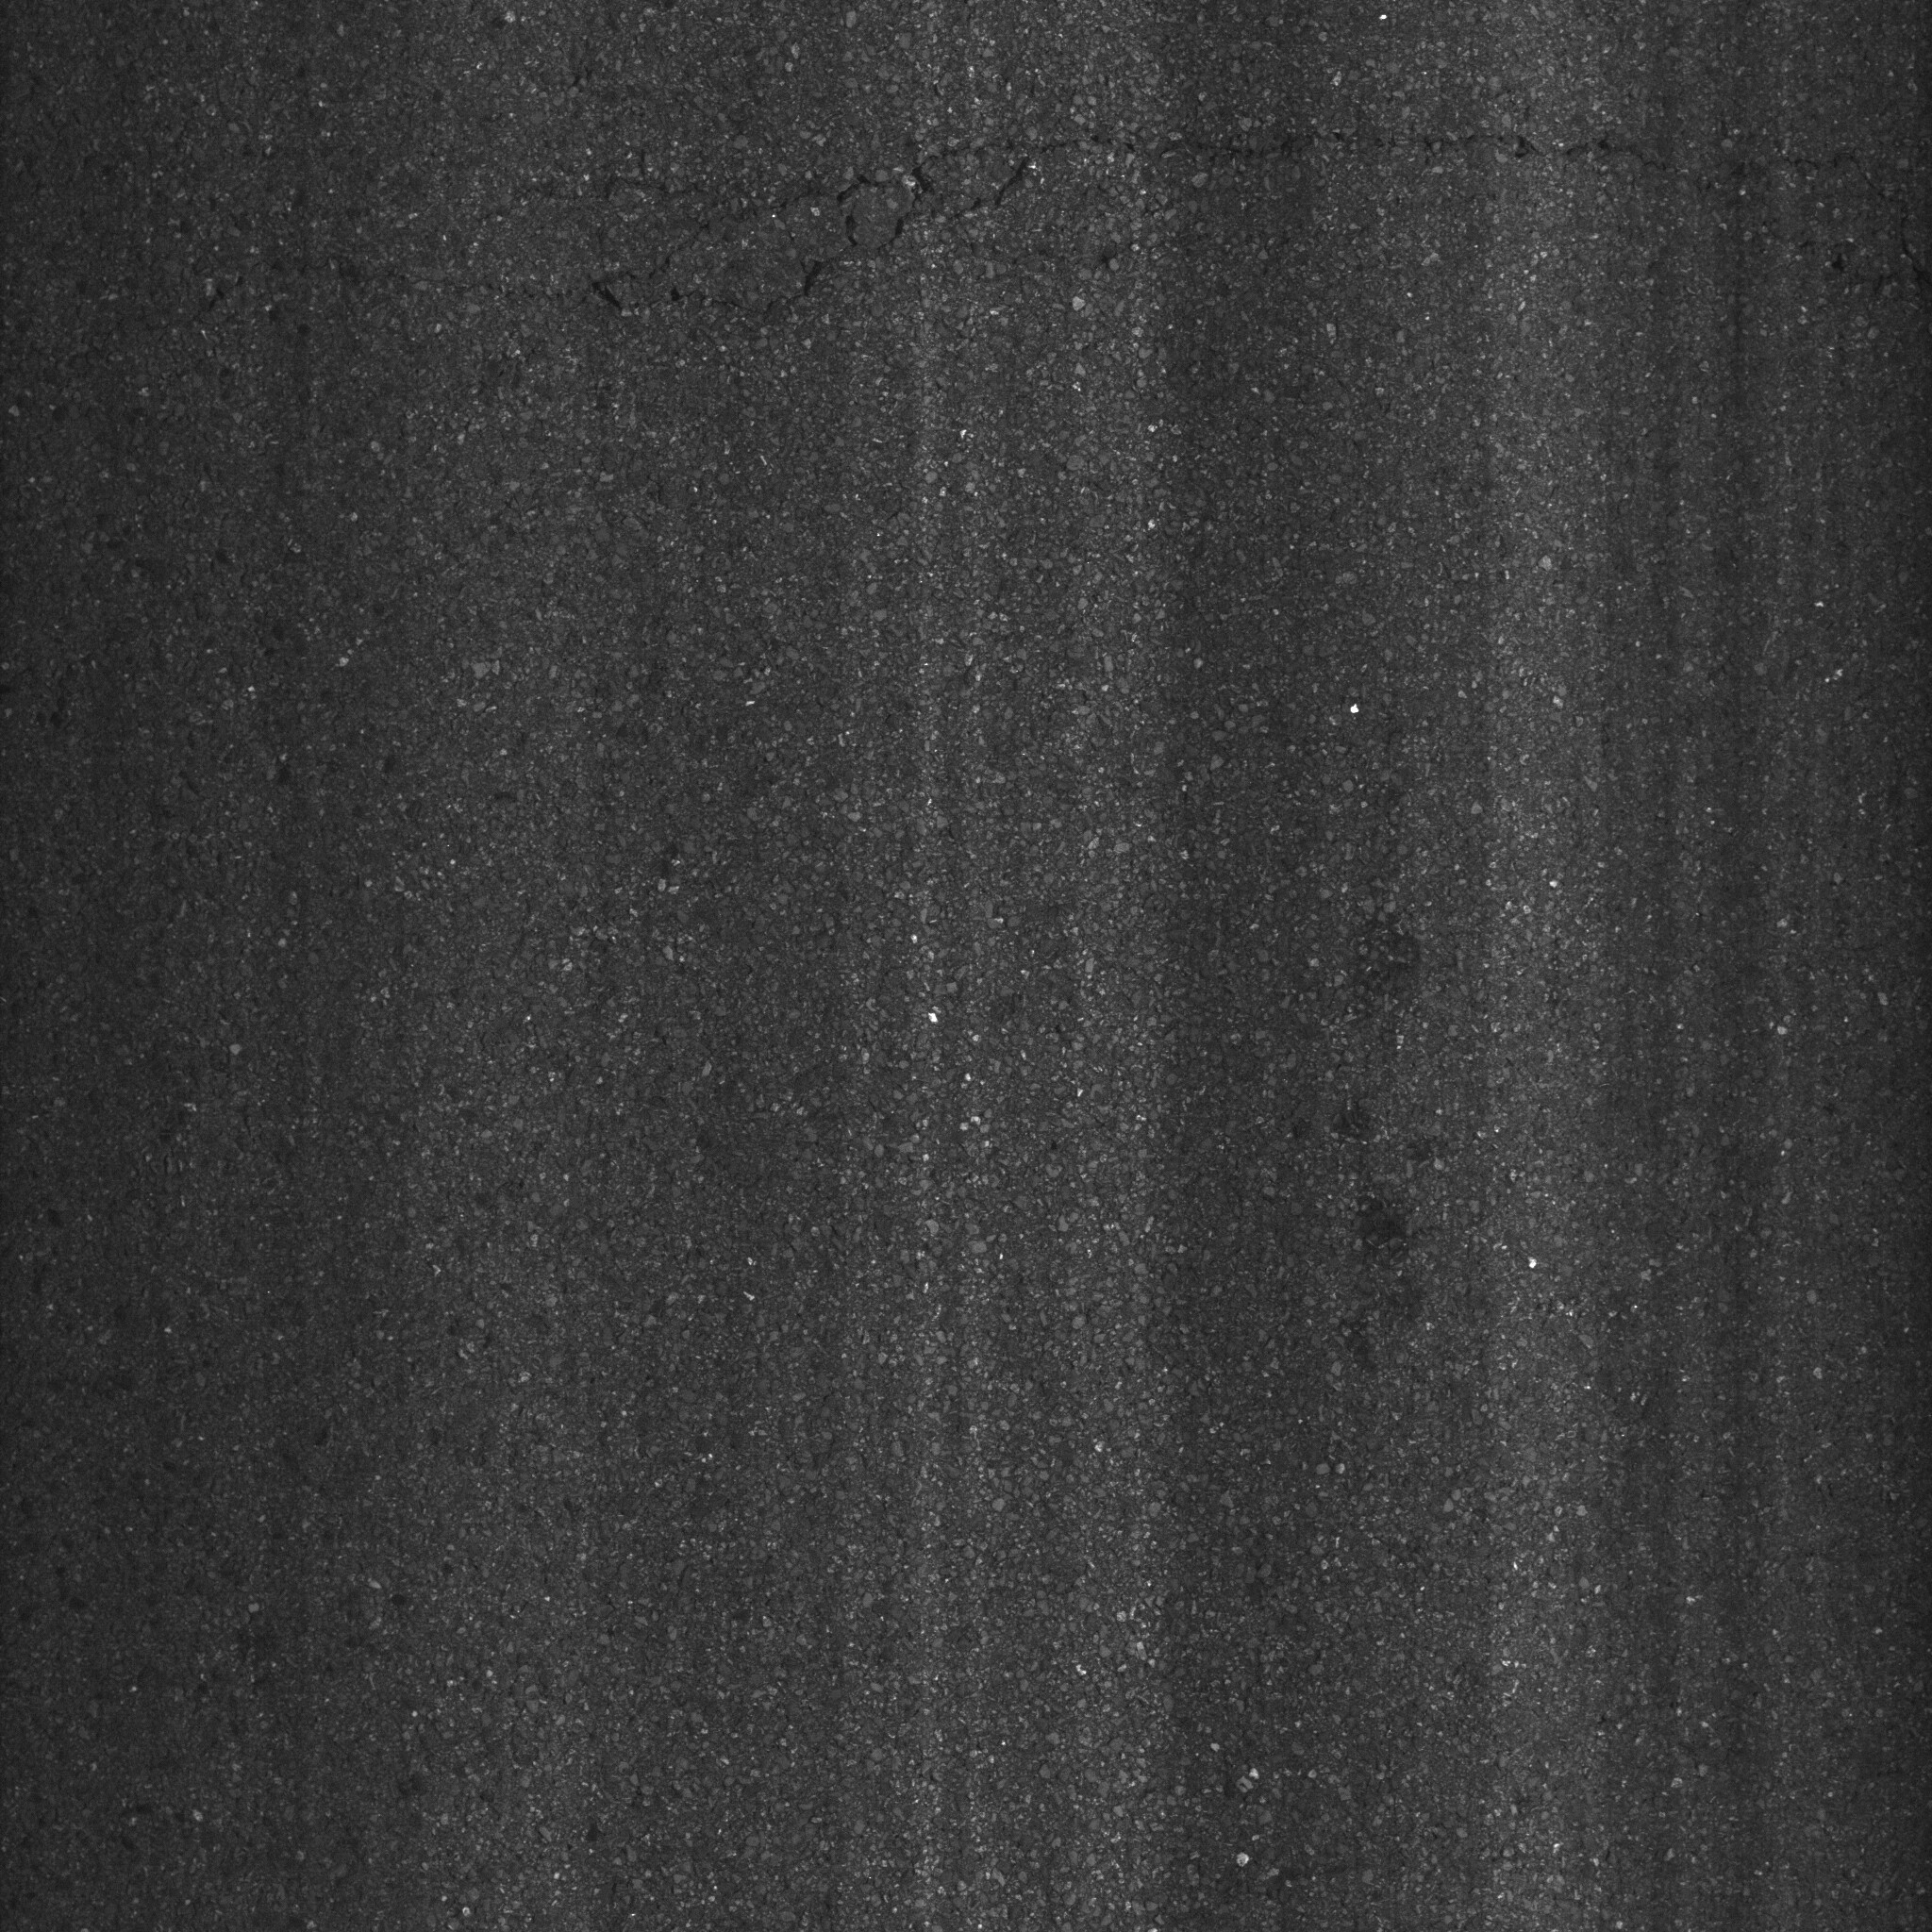transverse: (349, 87, 1852, 361)
